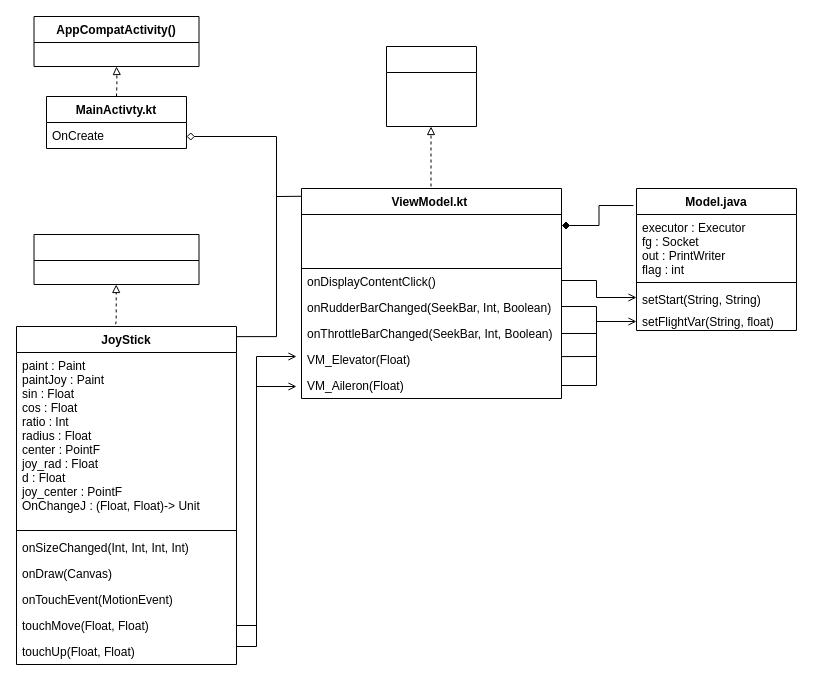
This 813x681 diagram has some shape labels left out. Each missing label, with the centre of its shape:
model : Model ipContent portContent: the point at 431,241
View(): the point at 116,259
ViewModel(): the point at 431,86
